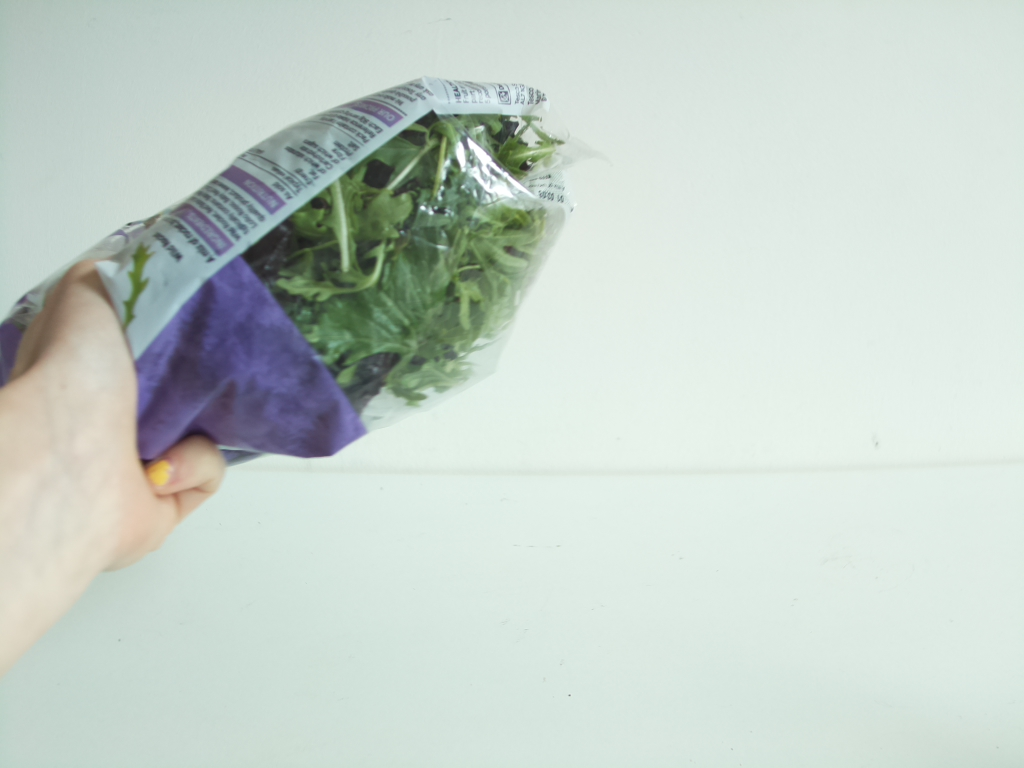salad: (1, 82, 603, 459)
